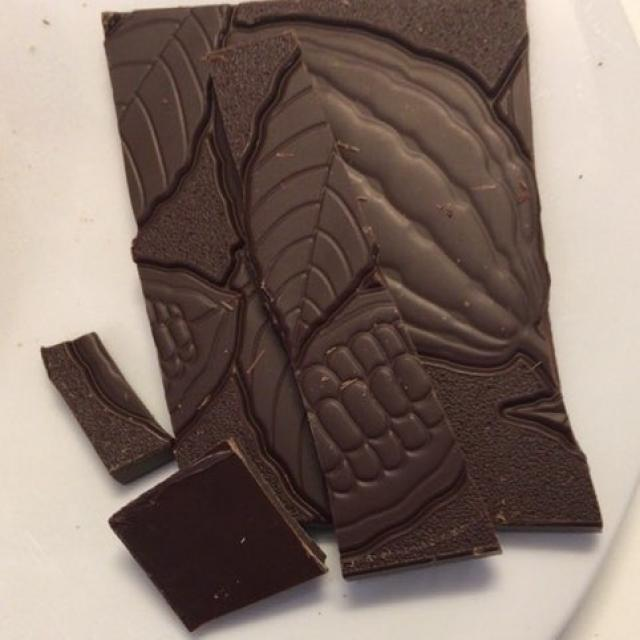chocolate: (73, 3, 634, 619)
